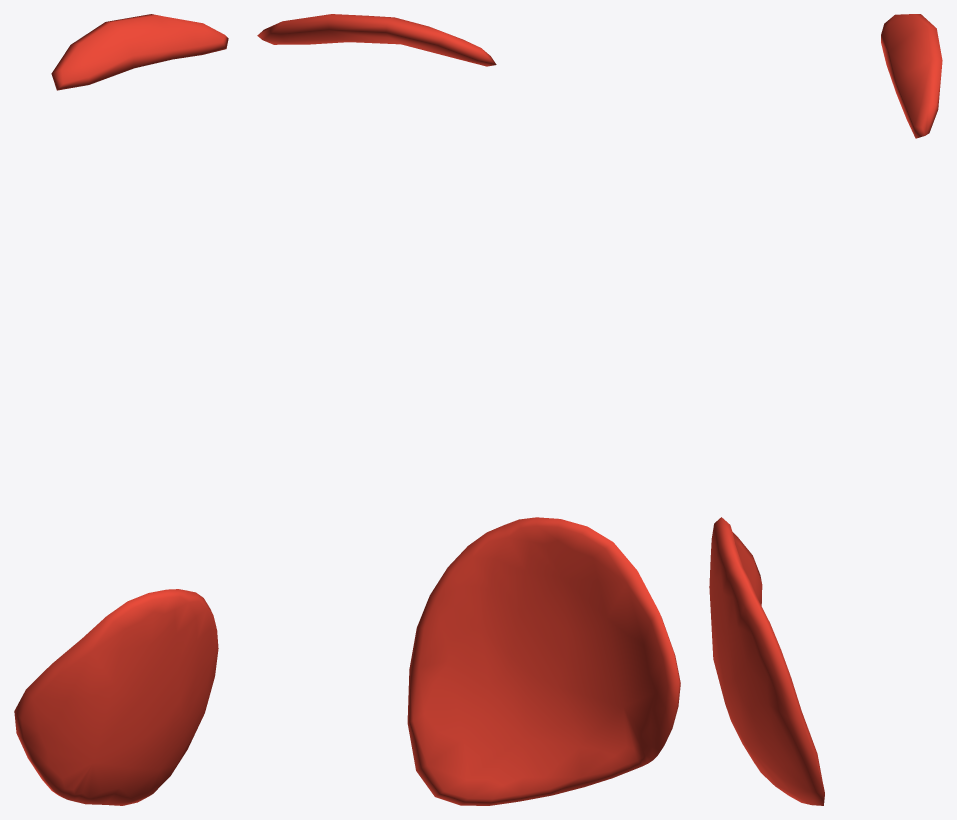
File: Adductor_pollicis_brevis-Ending.r_Generated_Mesh_From_X3D.571.glb
The picture shows the model from 3 angles, left to right: view 1: azimuth 30°, elevation 25°; view 2: azimuth 150°, elevation 25°; view 3: azimuth 270°, elevation 25°; orthographic projection. The views are drawn at different scales.
Parts seen in each view (by area): view 1: Adductor_pollicis_brevis-Ending.r_Generated_Mesh_From_X3D.57; view 2: Adductor_pollicis_brevis-Ending.r_Generated_Mesh_From_X3D.57; view 3: Adductor_pollicis_brevis-Ending.r_Generated_Mesh_From_X3D.57.
Part boxes in pixels (<box>): Adductor_pollicis_brevis-Ending.r_Generated_Mesh_From_X3D.57: <box>14,14,228,805</box>; Adductor_pollicis_brevis-Ending.r_Generated_Mesh_From_X3D.57: <box>257,14,680,805</box>; Adductor_pollicis_brevis-Ending.r_Generated_Mesh_From_X3D.57: <box>709,14,942,805</box>.
Size of the model in its own units: 0.00839 by 0.0199 by 0.00537.
